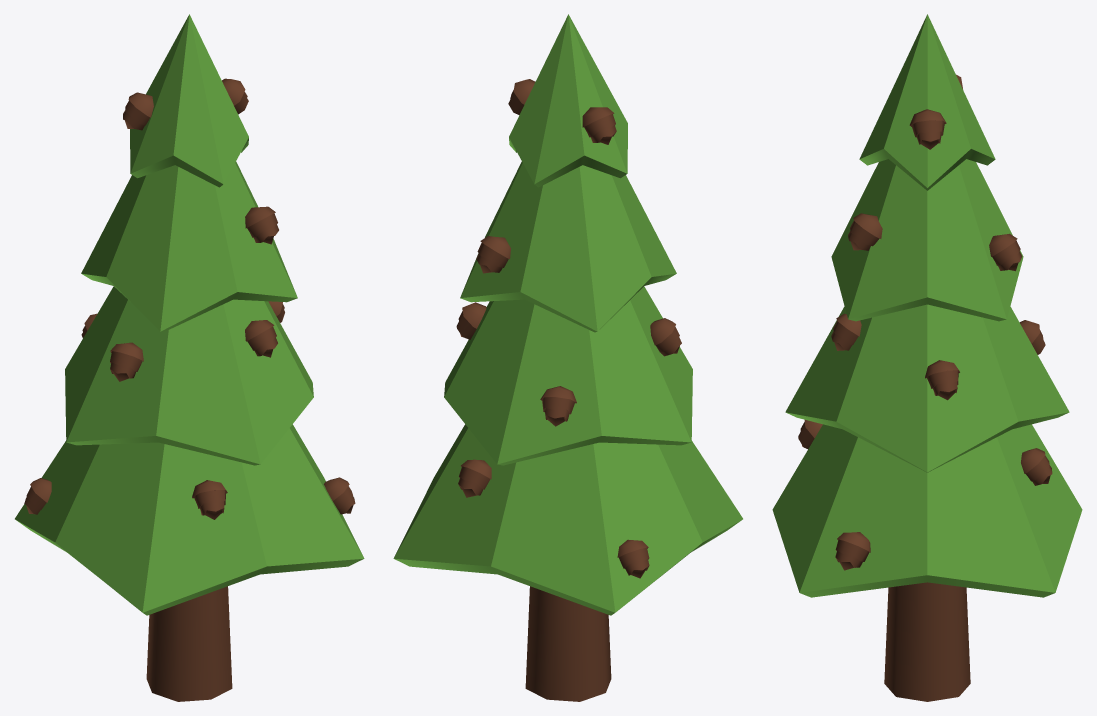
File: Pine.lv.004.fbx
3 views of the same model, side by side, from view 1: azimuth 30°, elevation 25°; view 2: azimuth 150°, elevation 25°; view 3: azimuth 270°, elevation 25° (orthographic).
Visible parts, largest first — view 1: Plane.027; view 2: Plane.027; view 3: Plane.027.
Boxes of the visible parts, x1,y1,x2,y2 form: Plane.027: (15, 14, 364, 701); Plane.027: (393, 14, 742, 701); Plane.027: (772, 14, 1082, 701).
Size of the model in its own units: 132 by 314 by 132.
